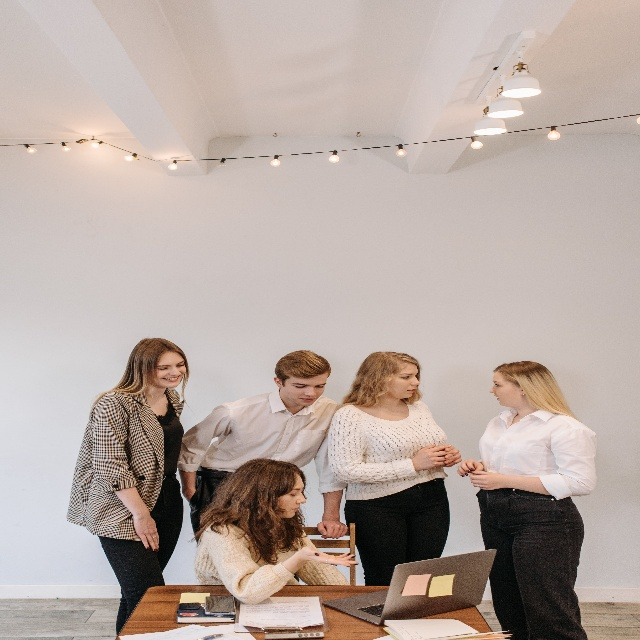Sin_guantes: (301, 545, 358, 570), (413, 440, 447, 472), (134, 516, 161, 553), (315, 518, 347, 540), (457, 459, 484, 480), (470, 469, 498, 489), (445, 440, 462, 466)
